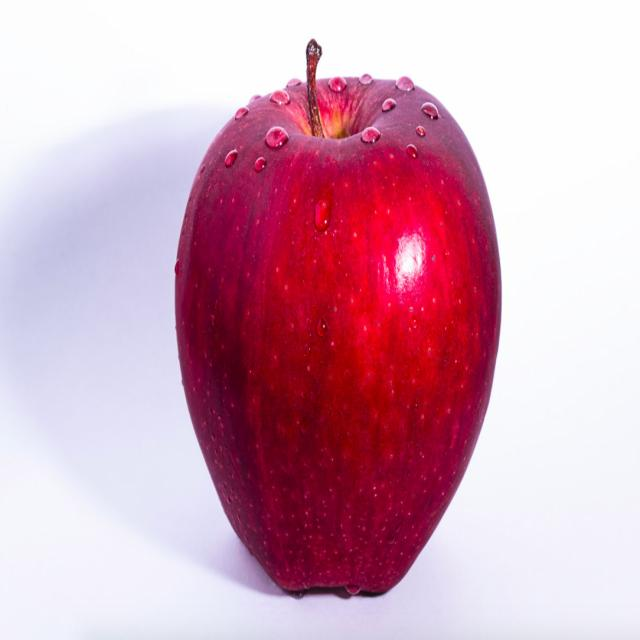Apple: (171, 38, 505, 601)
